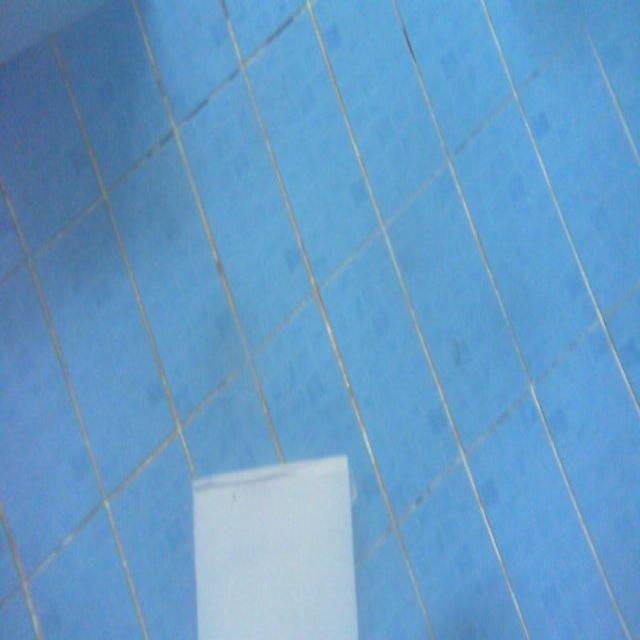Cuboid: (189, 450, 360, 638)
